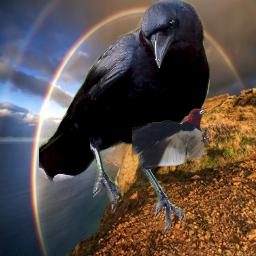Crow: (39, 0, 210, 234)
Woodpecker: (132, 105, 214, 168)
